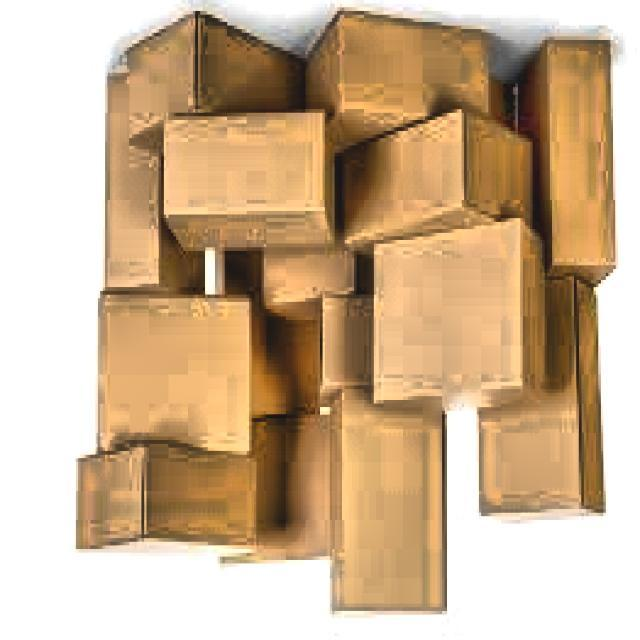cardboard: (76, 11, 618, 622)
